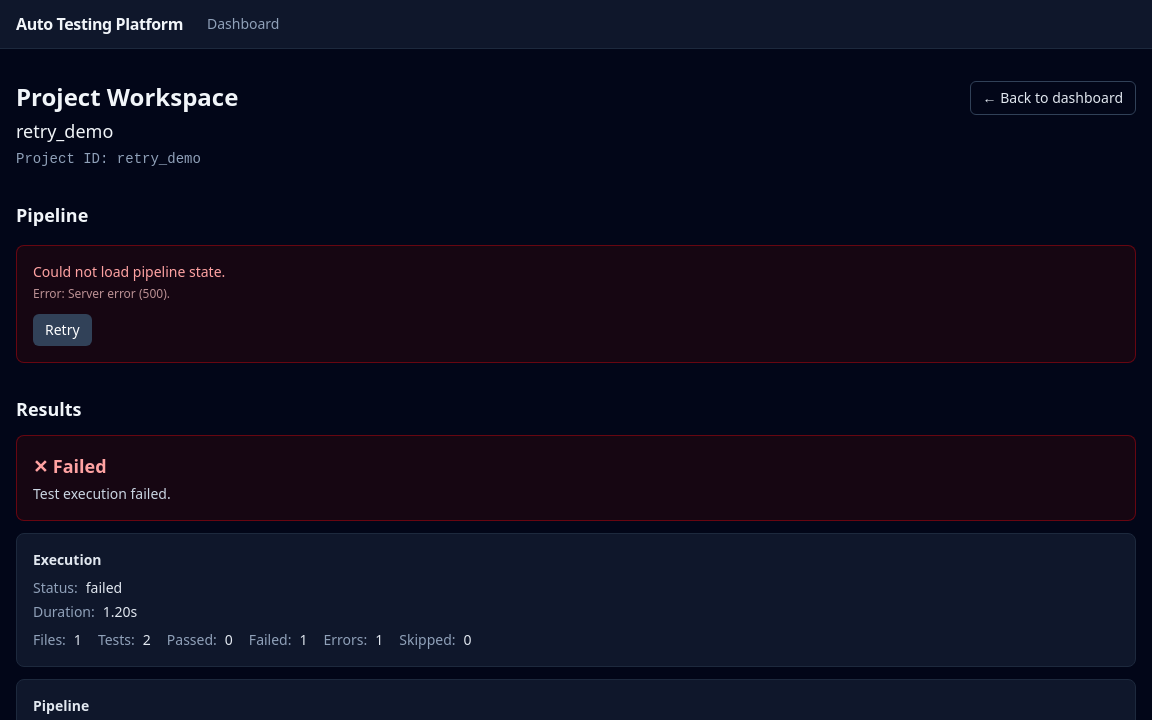
Test: Project workspace — errors › retries the pipeline read and shows data after it succeeds
Expected: the text "Could not load pipeline state." is shown, [33,262,225,281]
Click the button "Retry". click: click(62, 330)
box: [33,314,92,346]
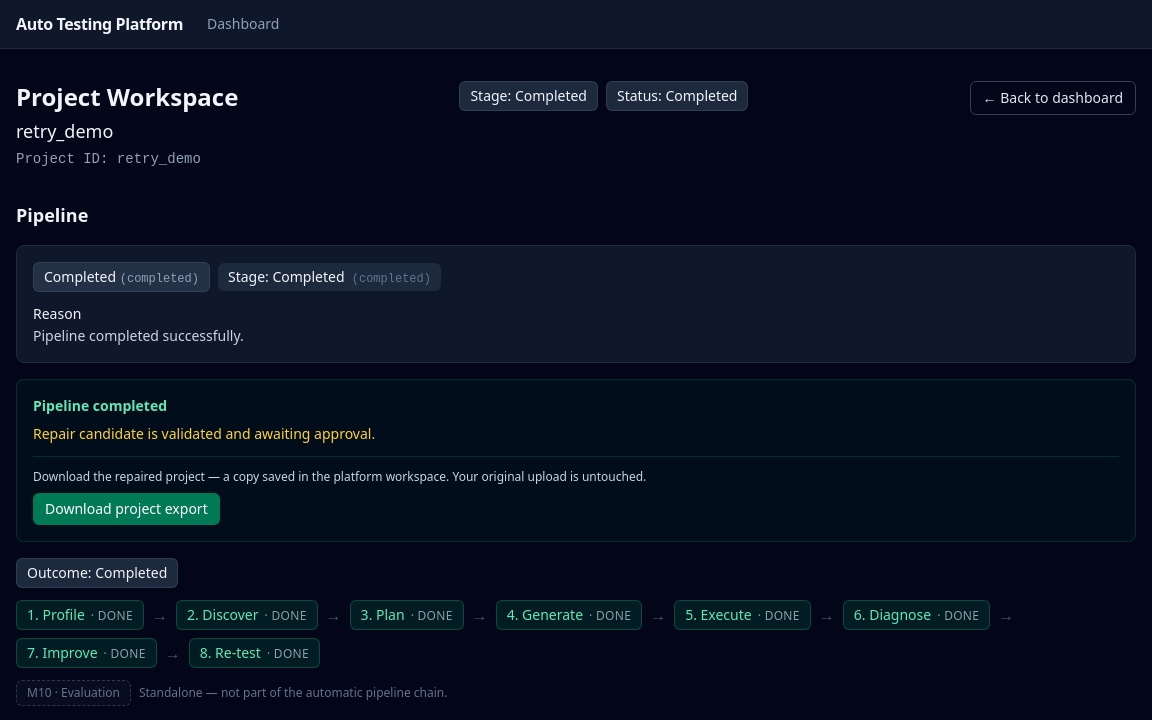
Now the 1st text "(completed)" is shown, box [120,272,199,286]
